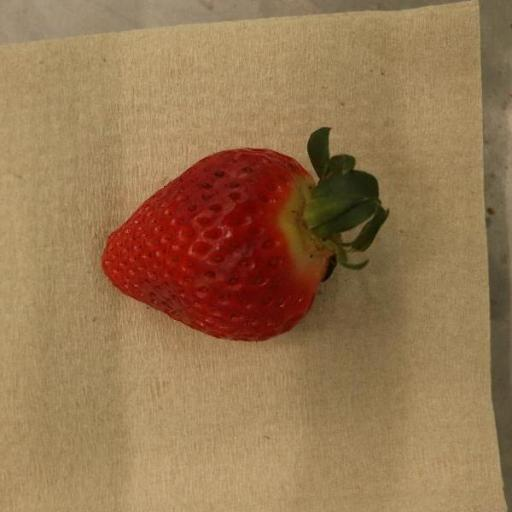Strawberry: (102, 127, 391, 343)
